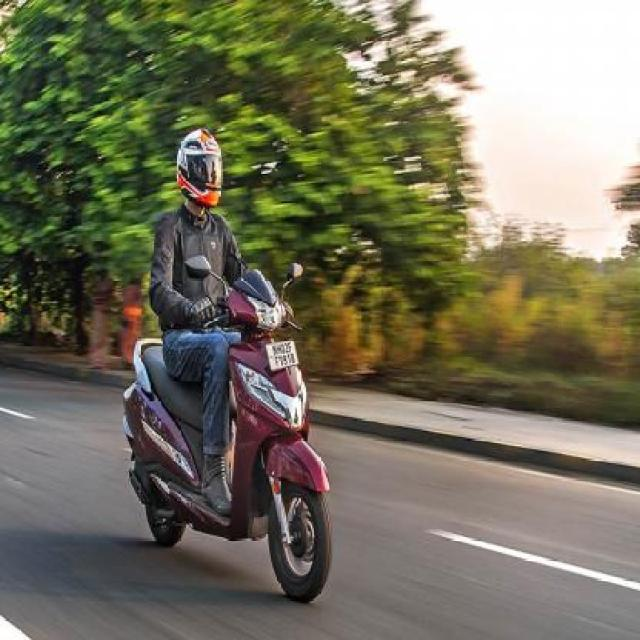helmet: (146, 126, 244, 211)
motorcycle: (108, 126, 358, 615)
